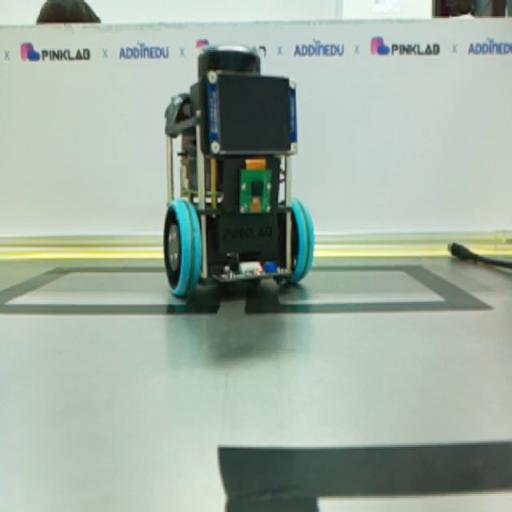pinky_63: (162, 45, 314, 297)
